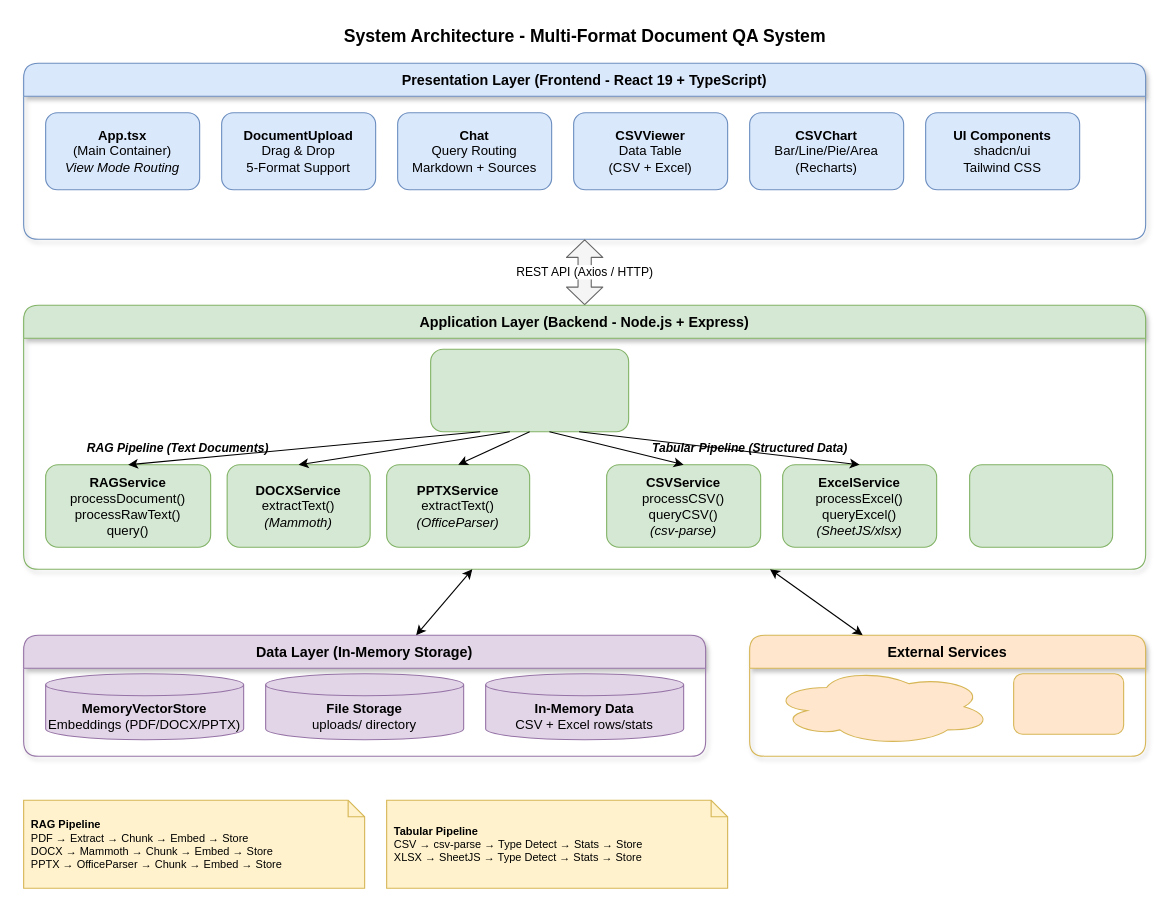
This 1172x908 diagram has some shape labels left out. Here are the shapes that lost their labels. From the top down, the centre of each, then its label:
At point (529, 390): "Document Routes Upload / Query / Reset Format Detection Pipeline Routing".
At point (1041, 505): "Middleware Error Handler CORS / Helmet".
At point (881, 706): "Google Gemini API gemini-2.5-flash-lite text-embedding-004".
At point (1068, 703): "LangChain RAG Framework".
